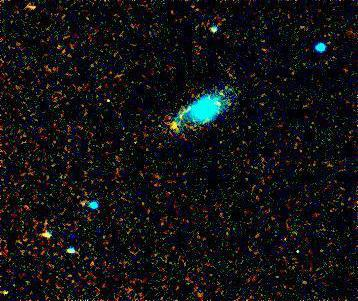star: (156, 113, 186, 143)
